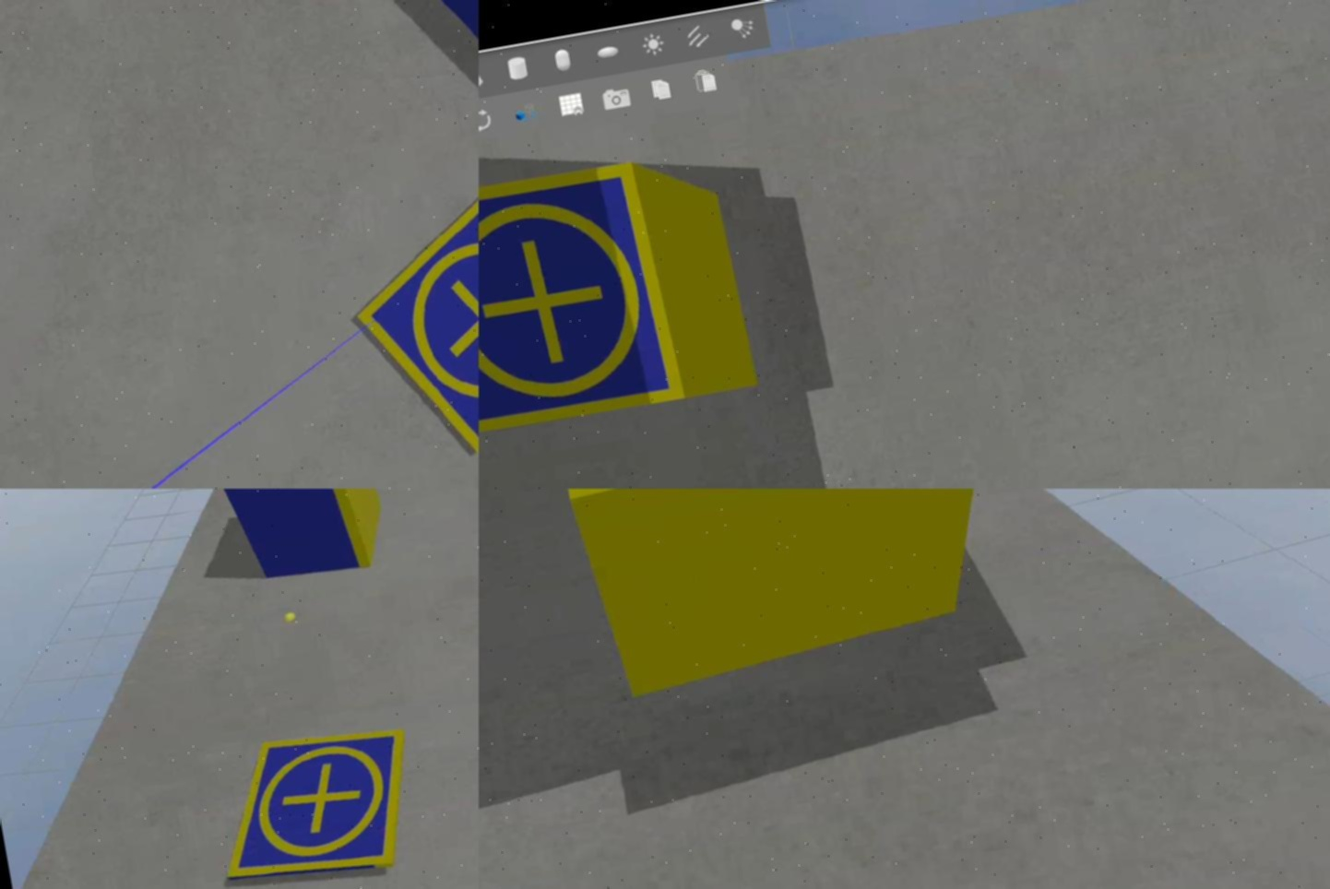small_base: (480, 157, 695, 446), (336, 169, 480, 477), (208, 721, 428, 889)
